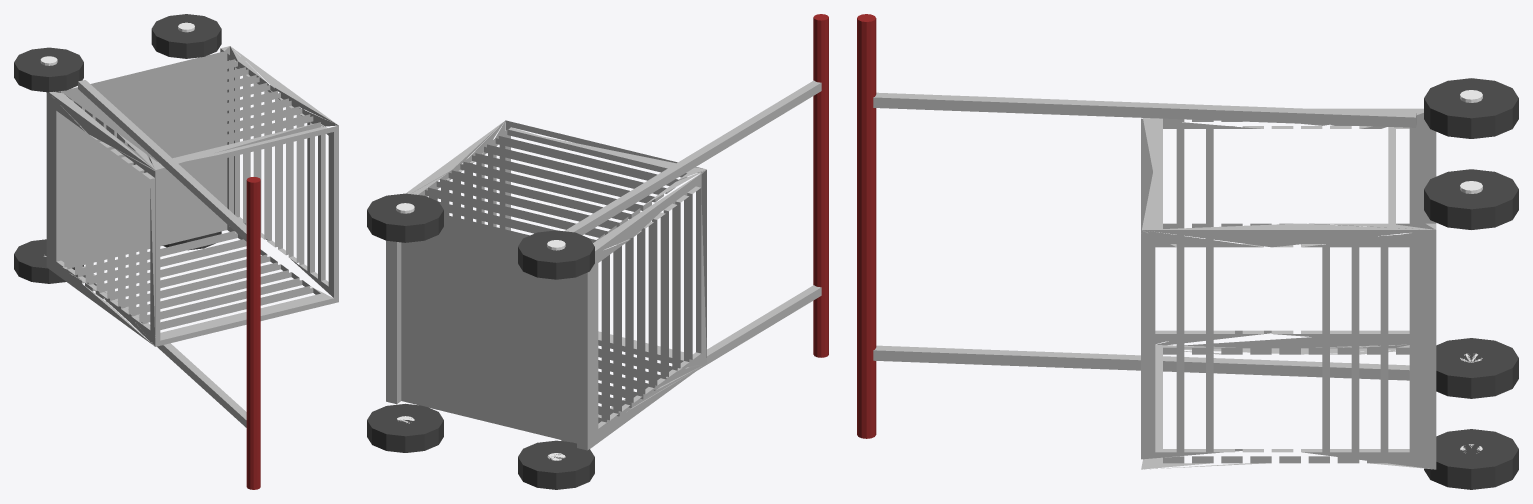
Rendered from nil_link_mesh.dae.
3 renders of one model, left to right at view 1: azimuth 30°, elevation 25°; view 2: azimuth 150°, elevation 25°; view 3: azimuth 270°, elevation 25°, orthographic. The views are drawn at different scales.
Parts seen in each view (by area): view 1: nil_link (×3); view 2: nil_link (×4); view 3: nil_link (×3).
Boxes of the visible parts, x1,y1,x2,y2 form: nil_link (×3): (14, 14, 338, 489); nil_link (×4): (367, 14, 828, 489); nil_link (×3): (857, 14, 1518, 489).
Bounding box in the file's own units: 0.4055 × 0.6 × 0.8636.
